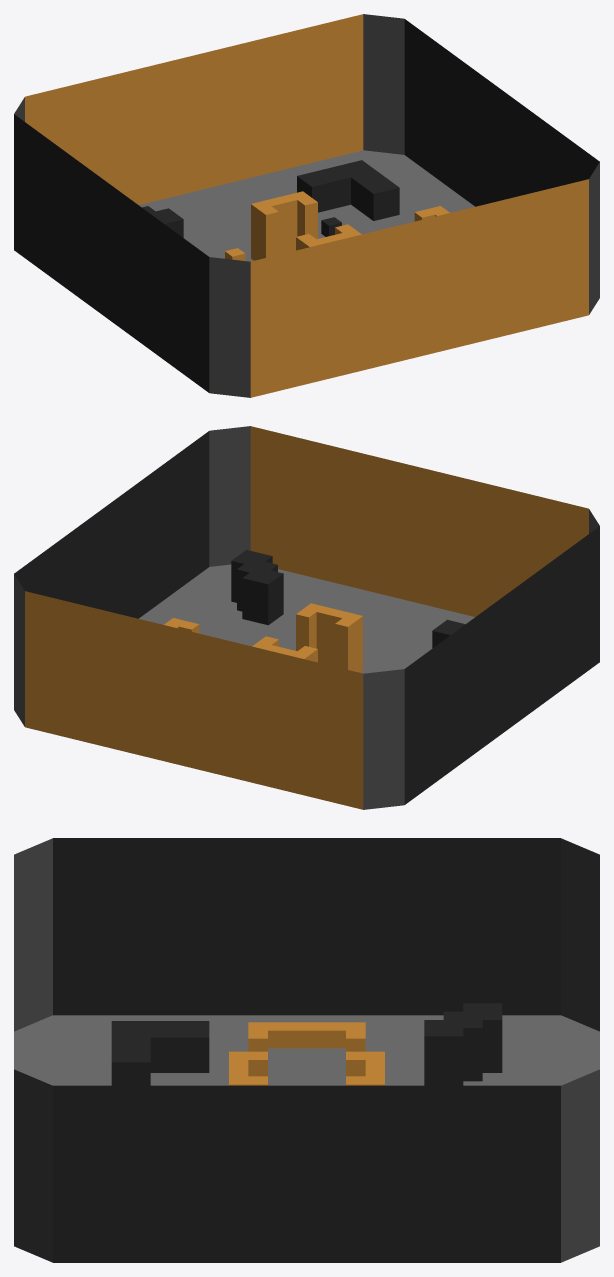
File: Game Collection.fbx
The picture shows the model from 3 angles, top to bottom: view 1: azimuth 30°, elevation 25°; view 2: azimuth 150°, elevation 25°; view 3: azimuth 270°, elevation 25°; orthographic projection. The views are drawn at different scales.
Visible parts, largest first — view 1: wall.003, wall.001, wall, wall.002, floor, corner.002, corner.004, cornerpiece, centerpiece, corner.001, centerpiece.001, jagpiece.001; view 2: wall.001, wall.003, wall, wall.002, floor, corner.003, corner.001, centerpiece.001, jagpiece, corner.004, centerpiece; view 3: wall.002, wall, floor, corner.001, corner.002, corner.003, corner.004, jagpiece.001, cornerpiece.001, edgepiece.001, centerpiece.001, centerpiece.
Part boxes in pixels (x1,y1,x2,y2): wall.003: (250, 179, 588, 397); wall.001: (25, 14, 363, 204); wall: (14, 114, 209, 392); wall.002: (404, 19, 599, 206); floor: (139, 150, 474, 261); corner.002: (209, 257, 250, 397); corner.004: (363, 14, 404, 154); cornerpiece: (297, 160, 399, 220); centerpiece: (251, 191, 317, 260); corner.001: (589, 162, 599, 314); centerpiece.001: (296, 224, 361, 250); jagpiece.001: (142, 206, 183, 237); wall.001: (25, 591, 363, 809); wall.003: (250, 426, 588, 616); wall: (404, 526, 599, 804); wall.002: (14, 431, 209, 618); floor: (139, 564, 474, 673); corner.003: (363, 669, 404, 809); corner.001: (209, 426, 250, 566); centerpiece.001: (296, 603, 362, 672); jagpiece: (231, 550, 283, 625); corner.004: (14, 574, 24, 726); centerpiece: (252, 636, 317, 662); wall.002: (53, 1085, 560, 1262); wall: (53, 838, 560, 1015); floor: (14, 1015, 599, 1085); corner.001: (14, 1069, 52, 1262); corner.002: (14, 838, 52, 1031); corner.003: (561, 838, 599, 1031); corner.004: (561, 1069, 599, 1262); jagpiece.001: (424, 1003, 502, 1085); cornerpiece.001: (111, 1021, 209, 1085); edgepiece.001: (248, 1022, 365, 1051); centerpiece.001: (229, 1051, 267, 1085); centerpiece: (346, 1051, 384, 1085).
Size of the model in its own units: 3000 by 1000 by 3000.
